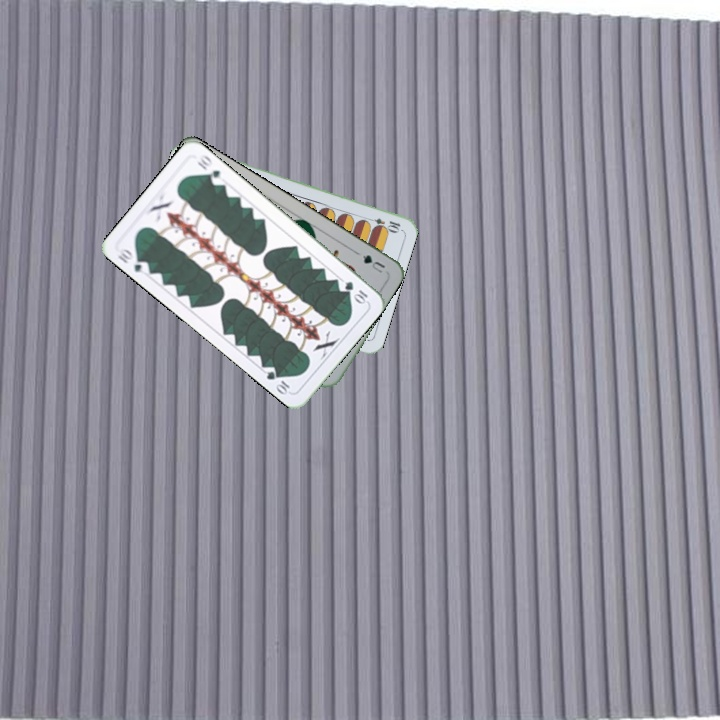E10: (362, 214, 403, 234)
G10: (114, 244, 152, 275), (341, 277, 370, 306)
GU: (358, 251, 388, 276)
